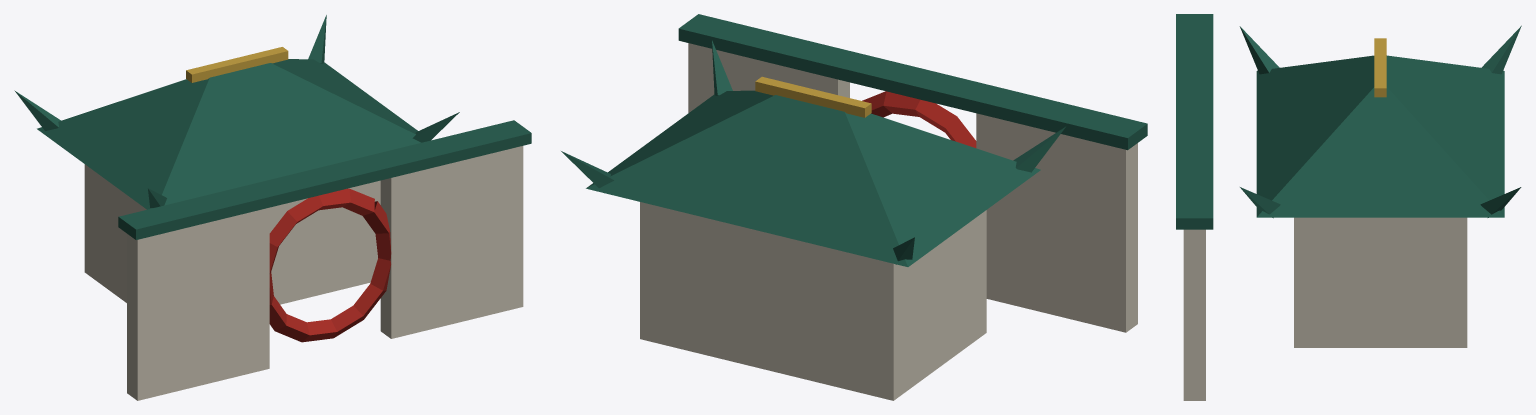
Rendered from dragon_house_c_broken.glb.
3 renders of one model, left to right at view 1: azimuth 30°, elevation 25°; view 2: azimuth 150°, elevation 25°; view 3: azimuth 270°, elevation 25°, orthographic. The views are drawn at different scales.
Visible parts, largest first — view 1: dragon_house_c_piece5, dragon_house_c_piece2, dragon_house_c_piece11, dragon_house_c_piece3, dragon_house_c_piece1, dragon_house_c_piece6, dragon_house_c_piece8, dragon_house_c_piece9, dragon_house_c_piece0, dragon_house_c_piece10, dragon_house_c_piece7, dragon_house_c_piece12 (+1 smaller); view 2: dragon_house_c_piece4, dragon_house_c_piece2, dragon_house_c_piece1, dragon_house_c_piece0, dragon_house_c_piece5, dragon_house_c_piece3, dragon_house_c_piece7, dragon_house_c_piece8, dragon_house_c_piece12, dragon_house_c_piece9, dragon_house_c_piece6, dragon_house_c_piece10; view 3: dragon_house_c_piece3, dragon_house_c_piece8, dragon_house_c_piece12, dragon_house_c_piece4, dragon_house_c_piece5, dragon_house_c_piece11, dragon_house_c_piece0, dragon_house_c_piece1, dragon_house_c_piece10, dragon_house_c_piece9, dragon_house_c_piece6.
Part boxes in pixels (x1,y1,x2,y2): dragon_house_c_piece5: (227, 147, 472, 342); dragon_house_c_piece2: (127, 241, 334, 400); dragon_house_c_piece11: (308, 147, 523, 332); dragon_house_c_piece3: (186, 47, 377, 218); dragon_house_c_piece1: (106, 80, 190, 291); dragon_house_c_piece6: (202, 169, 339, 339); dragon_house_c_piece8: (324, 104, 531, 233); dragon_house_c_piece9: (140, 77, 222, 290); dragon_house_c_piece0: (14, 90, 126, 302); dragon_house_c_piece10: (196, 135, 487, 204); dragon_house_c_piece7: (66, 108, 146, 294); dragon_house_c_piece12: (287, 15, 384, 106); dragon_house_c_piece4: (637, 171, 921, 400); dragon_house_c_piece2: (968, 151, 1137, 345); dragon_house_c_piece1: (769, 122, 1147, 230); dragon_house_c_piece0: (728, 158, 957, 379); dragon_house_c_piece5: (766, 30, 1042, 148); dragon_house_c_piece3: (664, 76, 906, 169); dragon_house_c_piece7: (885, 203, 1127, 353); dragon_house_c_piece8: (660, 14, 793, 133); dragon_house_c_piece12: (561, 128, 730, 235); dragon_house_c_piece9: (845, 104, 1142, 191); dragon_house_c_piece6: (978, 98, 1065, 219); dragon_house_c_piece10: (753, 27, 831, 73); dragon_house_c_piece3: (1264, 38, 1458, 347); dragon_house_c_piece8: (1176, 152, 1370, 347); dragon_house_c_piece12: (1366, 133, 1521, 318); dragon_house_c_piece4: (1362, 85, 1504, 347); dragon_house_c_piece5: (1176, 61, 1267, 187); dragon_house_c_piece11: (1183, 258, 1326, 400); dragon_house_c_piece0: (1441, 25, 1521, 135); dragon_house_c_piece1: (1176, 14, 1453, 110); dragon_house_c_piece10: (1176, 68, 1321, 193); dragon_house_c_piece9: (1176, 16, 1403, 98); dragon_house_c_piece6: (1176, 51, 1287, 131).
Size of the model in its own units: 3.9 by 2.12 by 2.79.
